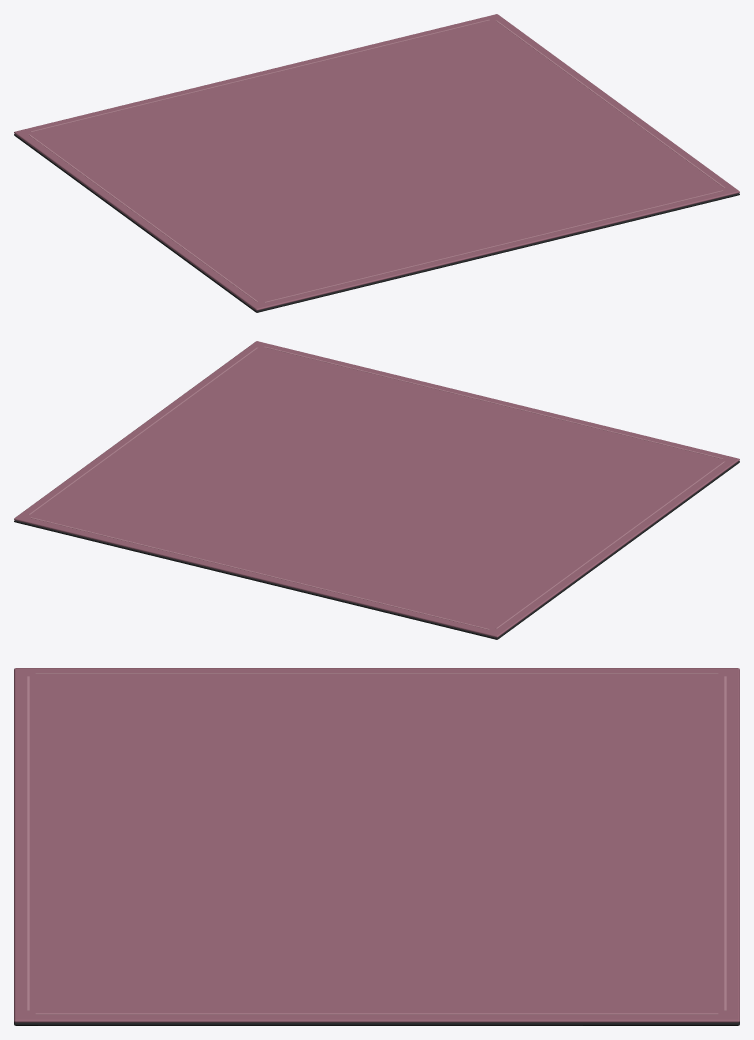
Rendered from logitech-mouse-pad.glb.
The picture shows the model from 3 angles, top to bottom: view 1: azimuth 30°, elevation 25°; view 2: azimuth 150°, elevation 25°; view 3: azimuth 270°, elevation 25°; orthographic projection. The views are drawn at different scales.
Visible parts, largest first — view 1: logitech-mouse-pad; view 2: logitech-mouse-pad; view 3: logitech-mouse-pad.
Part boxes in pixels (left/top/right/bottom): logitech-mouse-pad: left=14, top=14, right=739, bottom=312; logitech-mouse-pad: left=14, top=341, right=739, bottom=639; logitech-mouse-pad: left=14, top=668, right=739, bottom=1025.
Bounding box in the file's own units: 0.23 × 0.00201 × 0.2.
